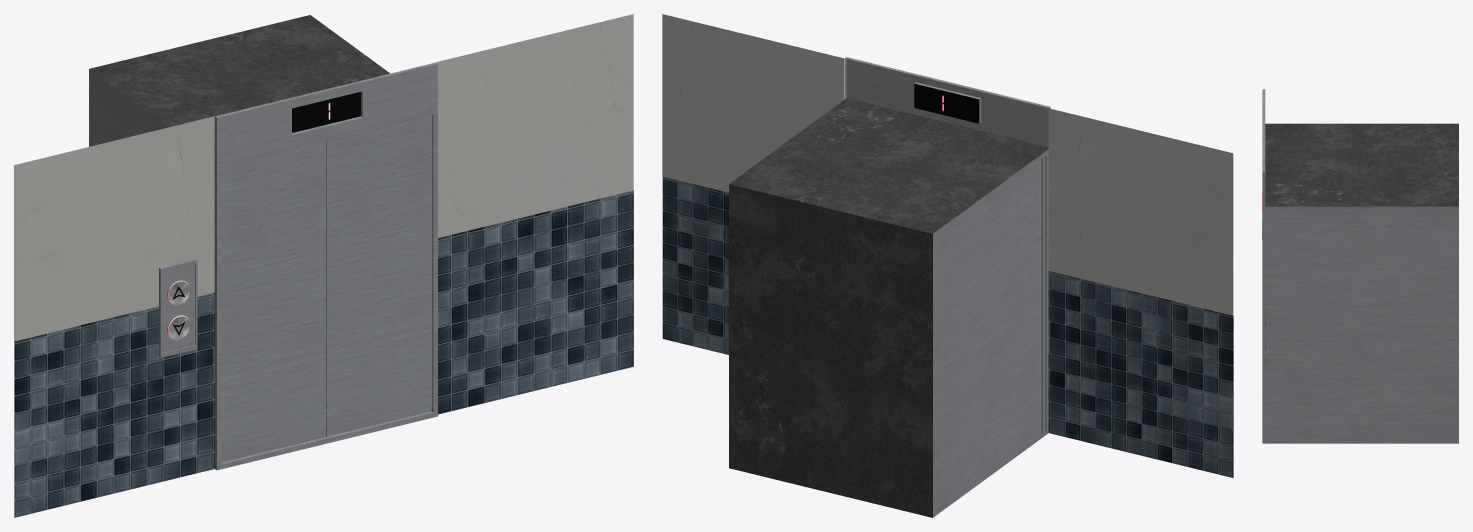
The model's file is elevator.glb.
3 renders of one model, left to right at view 1: azimuth 30°, elevation 25°; view 2: azimuth 150°, elevation 25°; view 3: azimuth 270°, elevation 25°, orthographic. The views are drawn at different scales.
Visible parts, largest first — view 1: Object_23, Object_22, mesh_3, mesh_2, Object_6, Object_7, Object_18, Object_27; view 2: Object_7, Object_23, Object_22, Object_6, Object_18, mesh_9; view 3: Object_6, Object_7.
Boxes of the visible parts, left/top/right/bottom form: Object_23: left=14, top=14, right=633, bottom=341; Object_22: left=14, top=190, right=633, bottom=517; mesh_3: left=326, top=115, right=431, bottom=436; mesh_2: left=221, top=141, right=325, bottom=462; Object_6: left=89, top=62, right=437, bottom=470; Object_7: left=89, top=15, right=389, bottom=160; Object_18: left=292, top=92, right=360, bottom=132; Object_27: left=168, top=281, right=190, bottom=339; Object_7: left=729, top=98, right=1048, bottom=517; Object_23: left=662, top=14, right=1233, bottom=315; Object_22: left=662, top=176, right=1233, bottom=477; Object_6: left=845, top=57, right=1050, bottom=517; Object_18: left=914, top=83, right=979, bottom=123; mesh_9: left=1041, top=156, right=1046, bottom=433; Object_6: left=1262, top=89, right=1458, bottom=443; Object_7: left=1265, top=123, right=1458, bottom=206.
Bounding box in the file's own units: 3.64 × 1.98 × 1.3.
Materials: 16 (11 with a texture image).
